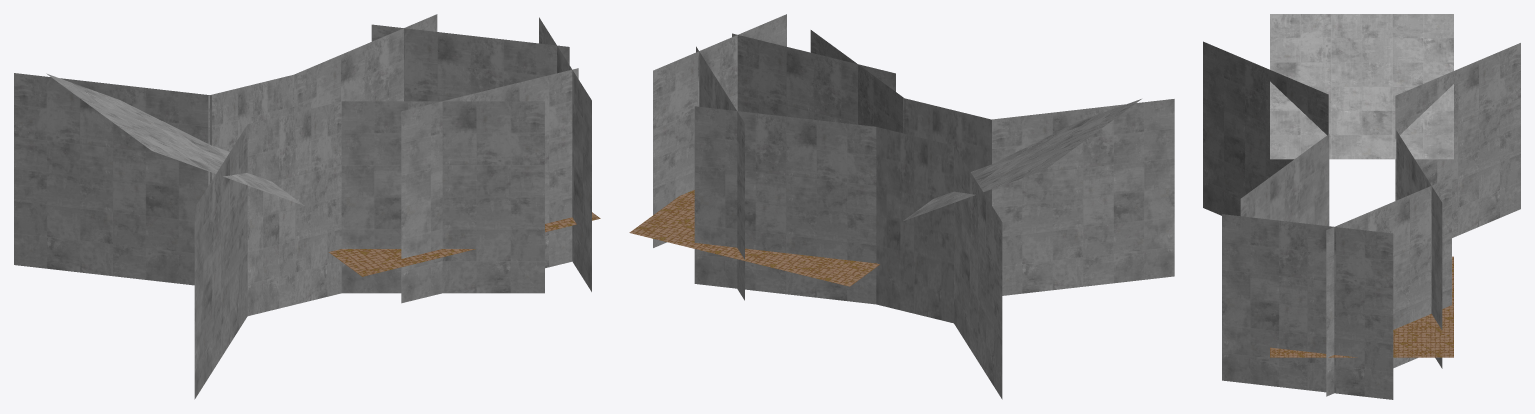
File: nivel_tierra_final.fbx
The picture shows the model from 3 angles, left to right: view 1: azimuth 30°, elevation 25°; view 2: azimuth 150°, elevation 25°; view 3: azimuth 270°, elevation 25°; orthographic projection. The views are drawn at different scales.
Visible parts, largest first — view 1: Plane__97_, Plane__108_, Plane__103_, Plane__110_, Plane__102_, Plane__109_, Plane__107_, Plane__105_, Plane__111_, Plane__104_, Plane__106_; view 2: Plane__107_, Plane__102_, Plane__104_, Plane__110_, Plane__97_, Plane__111_, Plane__106_, Plane__105_, Plane__103_, Plane__108_, Plane__109_; view 3: Plane__111_, Plane__105_, Plane__97_, Plane__102_, Plane__109_, Plane__108_, Plane__106_, Plane__107_.
Boxes of the visible parts, x1,y1,x2,y2 form: Plane__97_: (14,73,211,285); Plane__108_: (340,101,544,293); Plane__103_: (247,101,343,315); Plane__110_: (401,68,578,303); Plane__102_: (194,125,247,399); Plane__109_: (371,24,569,101); Plane__107_: (292,14,437,112); Plane__105_: (46,73,304,205); Plane__111_: (539,17,591,291); Plane__104_: (208,74,297,185); Plane__106_: (329,212,600,276); Plane__107_: (694,106,876,304); Plane__102_: (992,99,1174,295); Plane__104_: (873,126,955,323); Plane__110_: (732,33,895,124); Plane__97_: (953,145,1002,399); Plane__111_: (653,14,786,247); Plane__106_: (629,190,879,286); Plane__105_: (903,99,1141,220); Plane__103_: (903,98,991,205); Plane__108_: (810,30,905,133); Plane__109_: (696,46,744,300); Plane__111_: (1222,214,1393,399); Plane__105_: (1270,14,1453,159); Plane__97_: (1395,43,1520,237); Plane__102_: (1203,41,1328,216); Plane__109_: (1326,177,1451,396); Plane__108_: (1240,134,1329,226); Plane__106_: (1270,256,1453,357); Plane__107_: (1396,130,1442,368).
Size of the model in its own units: 6741 by 3117 by 4674.
Materials: 2 (2 with a texture image).
